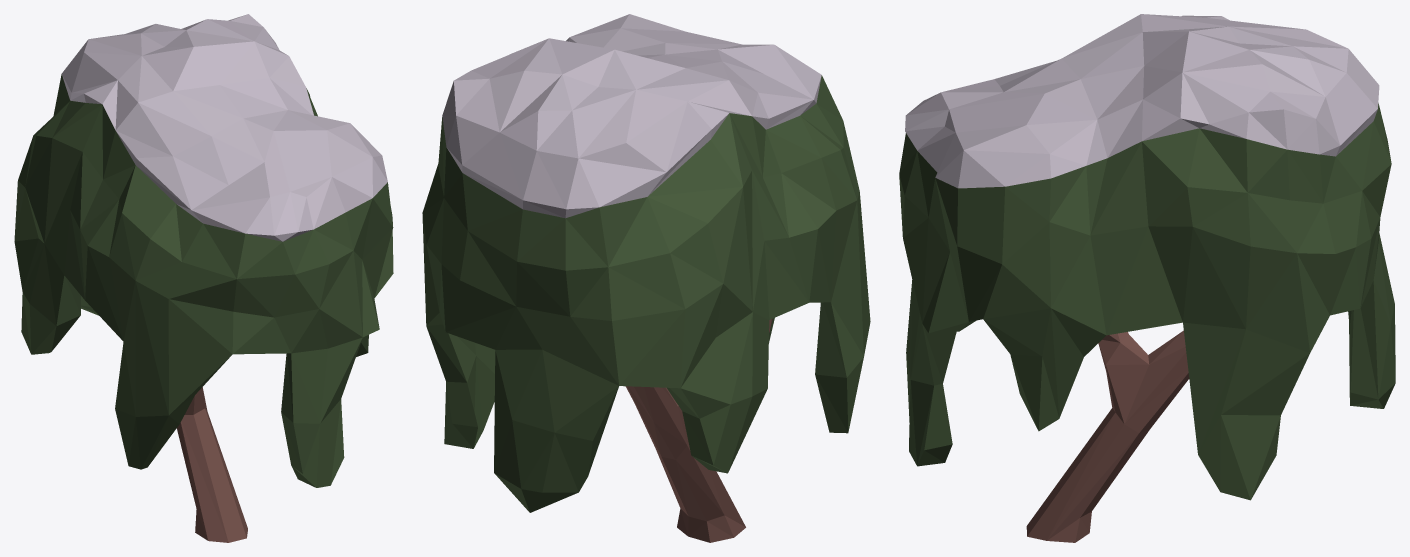
The model's file is Willow_Snow_4.lod1.glb.
The picture shows the model from 3 angles, left to right: view 1: azimuth 30°, elevation 25°; view 2: azimuth 150°, elevation 25°; view 3: azimuth 270°, elevation 25°; orthographic projection. The views are drawn at different scales.
Visible parts, largest first — view 1: Willow_Snow_4; view 2: Willow_Snow_4; view 3: Willow_Snow_4.
Boxes of the visible parts, x1,y1,x2,y2 form: Willow_Snow_4: (14,14,393,542); Willow_Snow_4: (422,14,870,542); Willow_Snow_4: (899,14,1395,542).
Size of the model in its own units: 2.19 by 3.47 by 3.03.
